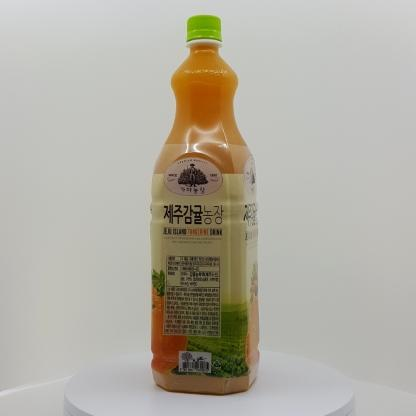------------1-5L: (150, 15, 260, 395)
